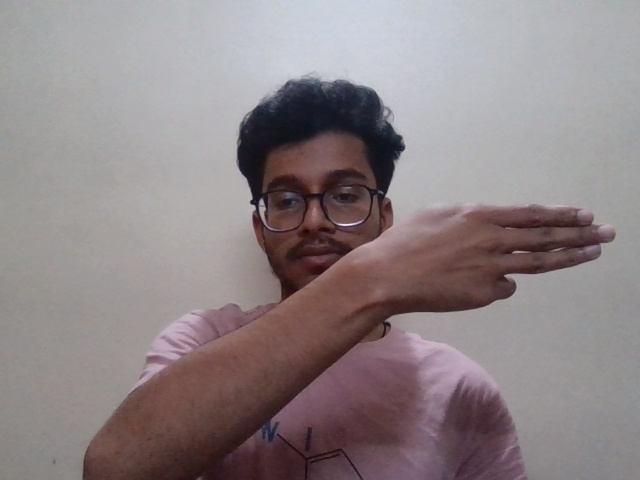wednesday: (321, 200, 629, 328)
